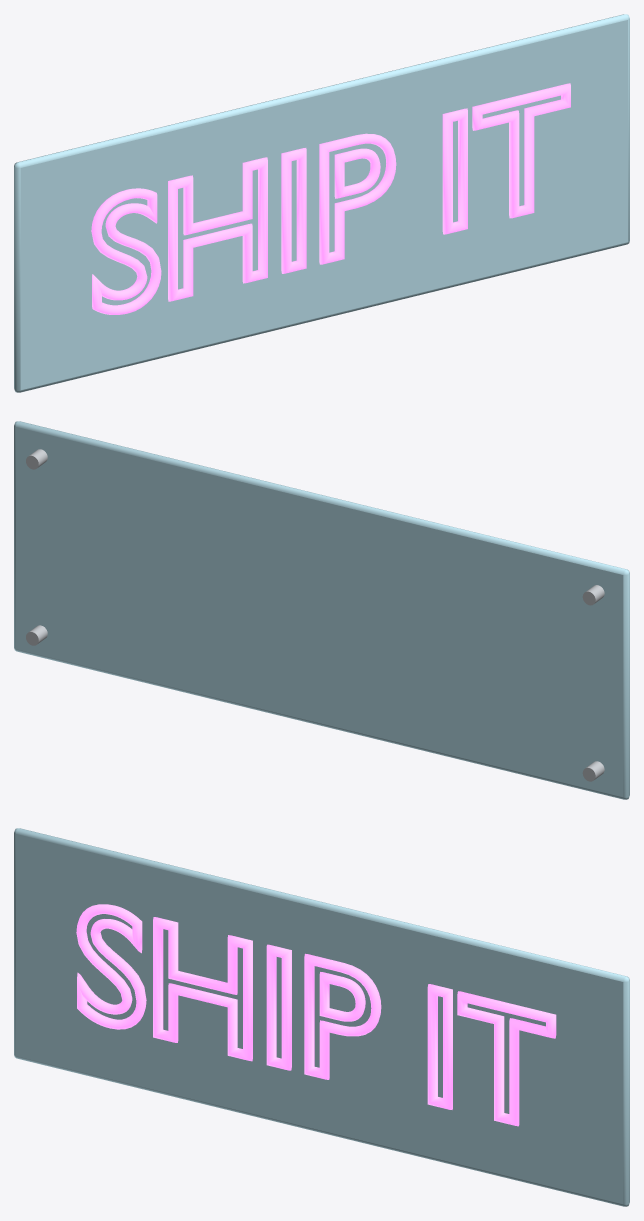
The model's file is neon_sign.fbx.
3 renders of one model, top to bottom at view 1: azimuth 30°, elevation 25°; view 2: azimuth 150°, elevation 25°; view 3: azimuth 330°, elevation 25°, orthographic.
Parts seen in each view (by area): view 1: Backing, Neon; view 2: Backing; view 3: Backing, Neon.
Part boxes in pixels (<box>): Backing: <box>14,14,629,392</box>; Neon: <box>91,83,570,314</box>; Backing: <box>14,421,629,799</box>; Backing: <box>14,828,629,1206</box>; Neon: <box>76,904,556,1126</box>.
Bounding box in the file's own units: 0.95 × 0.34 × 0.057.
